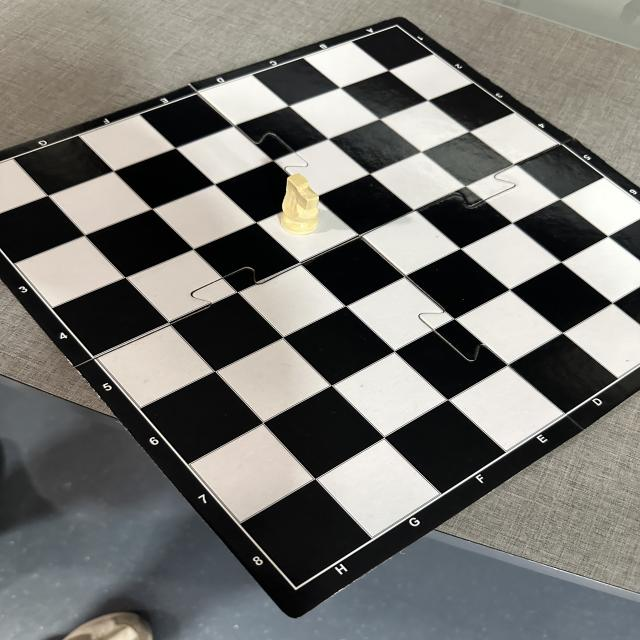White-Knight: (279, 173, 321, 235)
